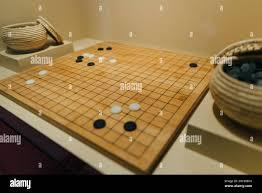board game: (0, 41, 218, 173)
